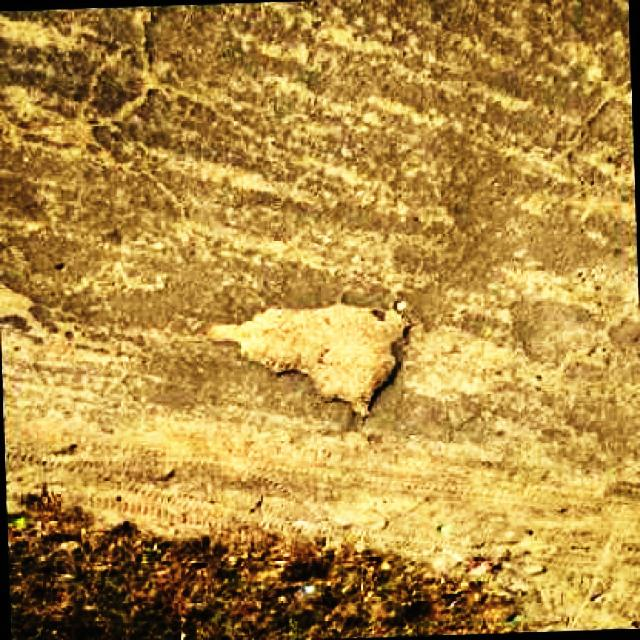pothole: (208, 289, 417, 417)
